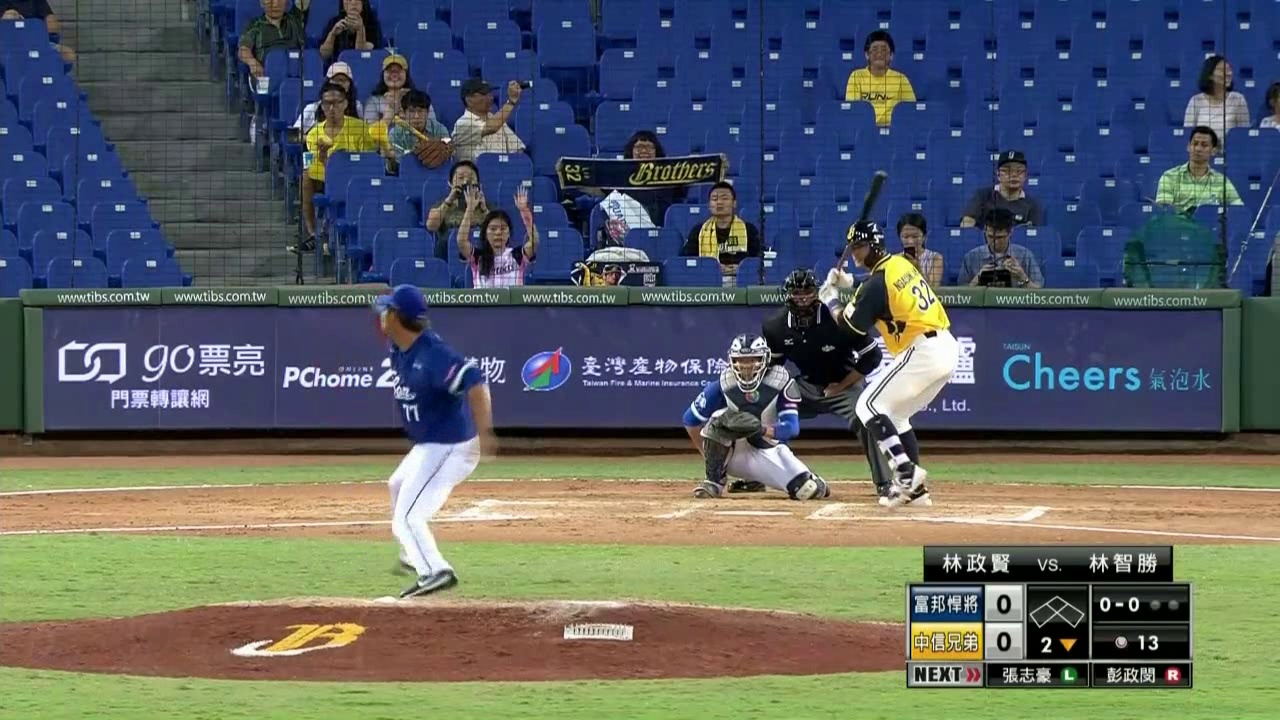base: (1027, 595, 1088, 631)
bat: (831, 167, 888, 278)
out: (1147, 590, 1186, 616)
score1: (988, 588, 1021, 617)
score2: (987, 622, 1022, 655)
session: (1028, 633, 1087, 658)
strikeball: (1094, 589, 1145, 622)
total: (1093, 629, 1185, 656)
